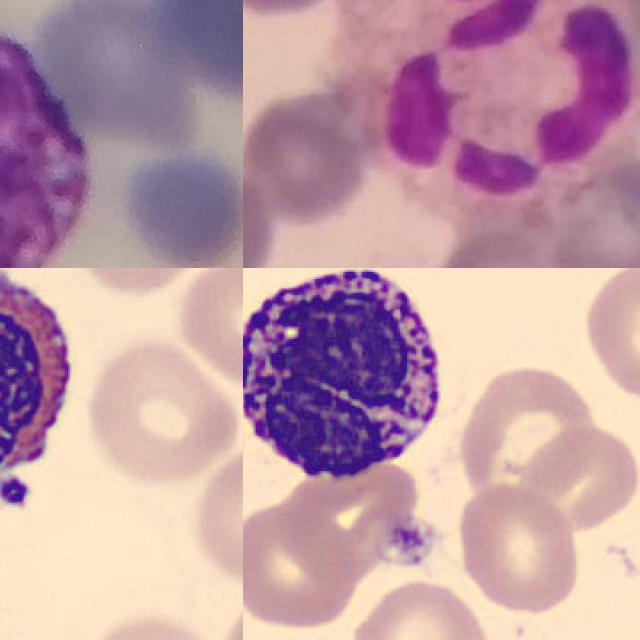Basophil: (243, 268, 453, 490), (0, 23, 94, 268)
Eosinophil: (0, 268, 86, 527)
Neutrophil: (345, 0, 640, 228)
Platelets: (381, 512, 439, 568)
RBC: (437, 462, 640, 640), (82, 334, 243, 489), (452, 355, 596, 503), (243, 488, 373, 633), (453, 479, 585, 620), (519, 421, 640, 536), (343, 575, 496, 640), (184, 437, 243, 589), (173, 268, 243, 393), (579, 268, 640, 407), (84, 607, 235, 640), (216, 582, 243, 640)
